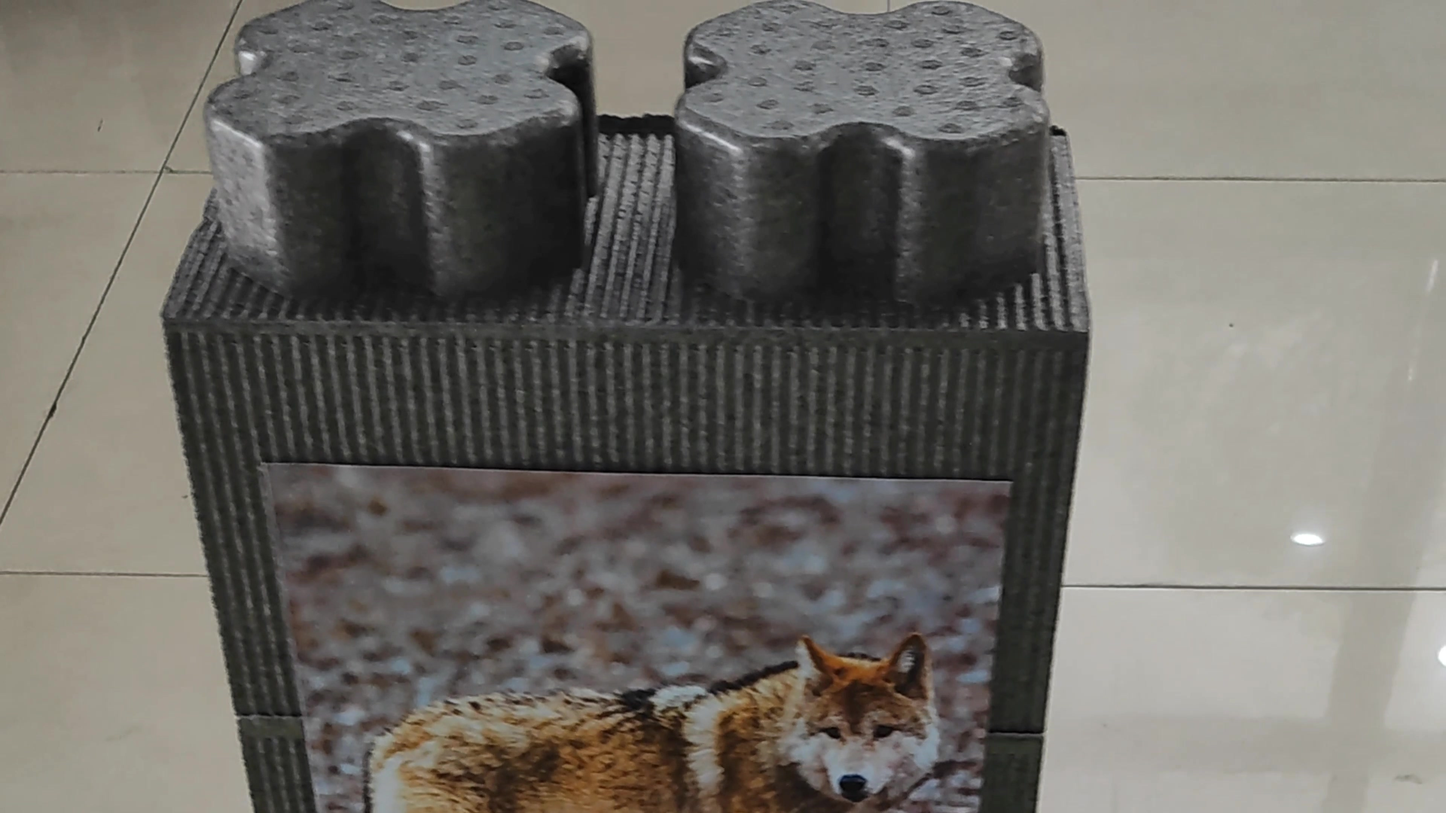wolf: (331, 589, 953, 813)
